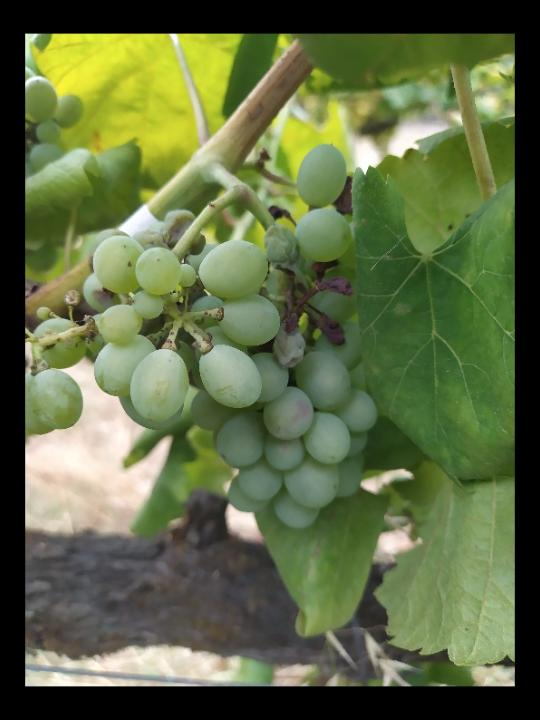grape: (25, 142, 380, 538)
